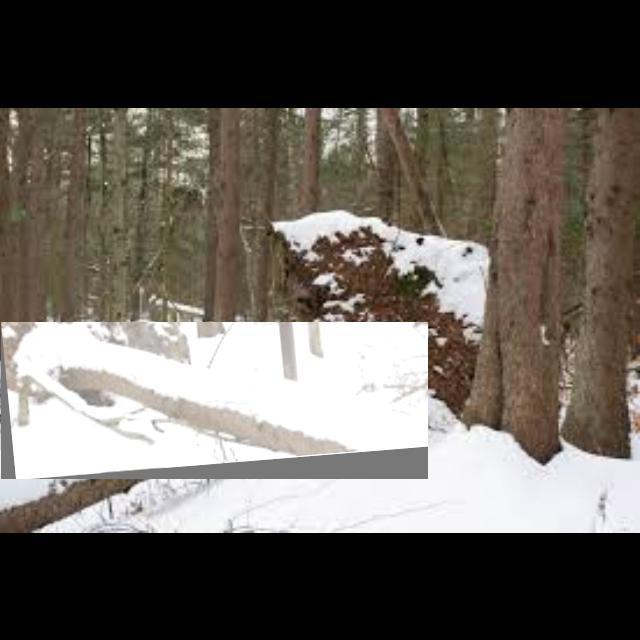fallen_tree: (1, 322, 429, 480)
